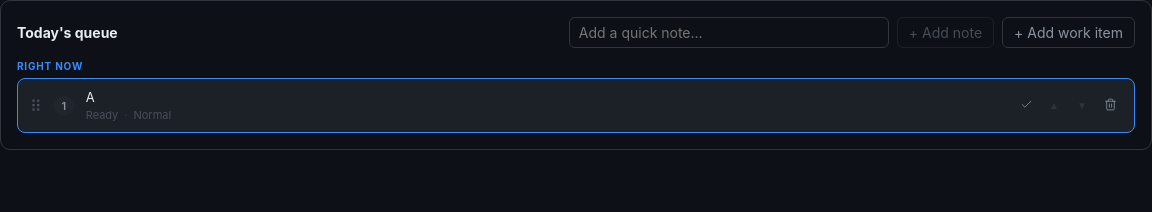
Test: DailyQueue › on a revision conflict, shows a message and refreshes from the authoritative queue
Expected: the text "A" is shown, [86, 89, 95, 105]
Click the button named "remove a from": x=1110, y=106 [1098, 94, 1122, 118]
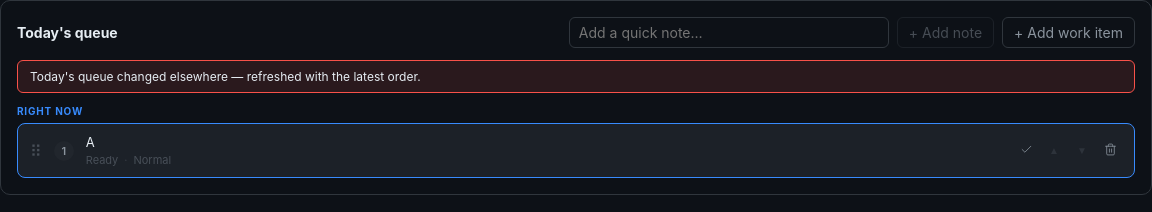
Expected: the message shows "changed elsewhere", [30, 69, 421, 84]
